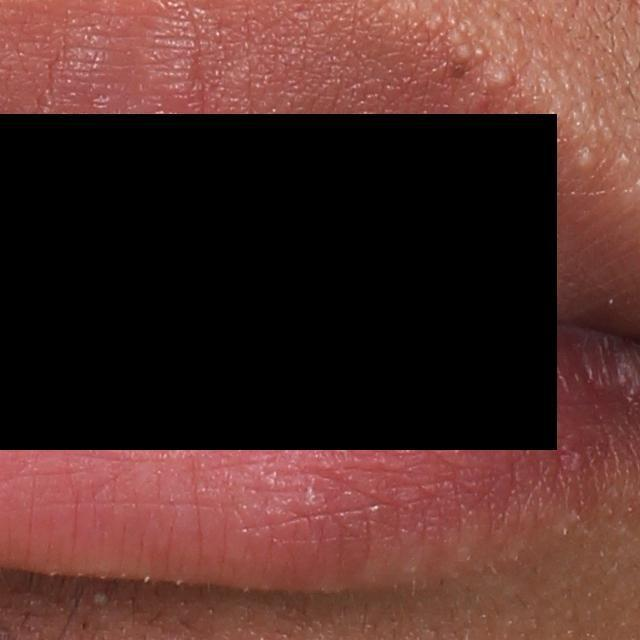pustule: (90, 590, 111, 611)
